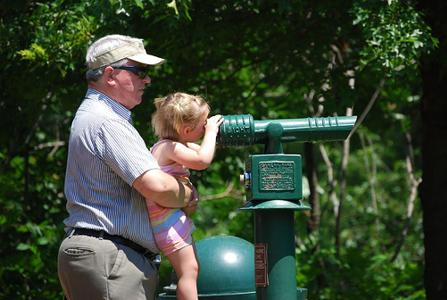person: (143, 94, 225, 297)
